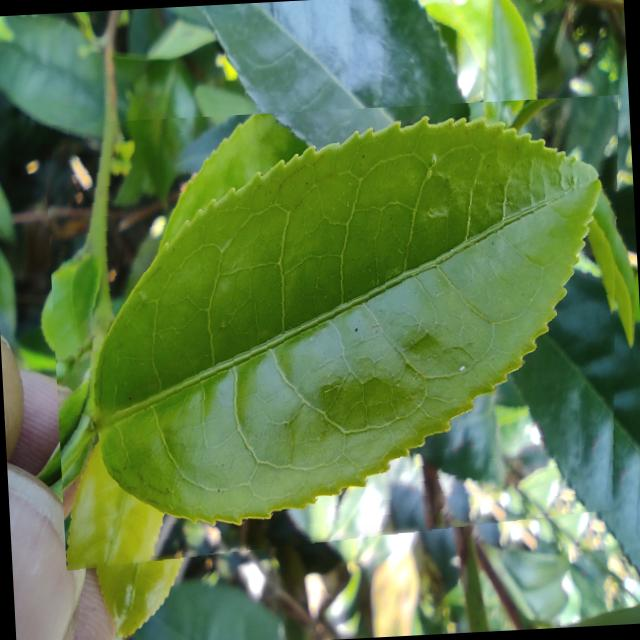Category C 4-7 days: (43, 95, 640, 573)
